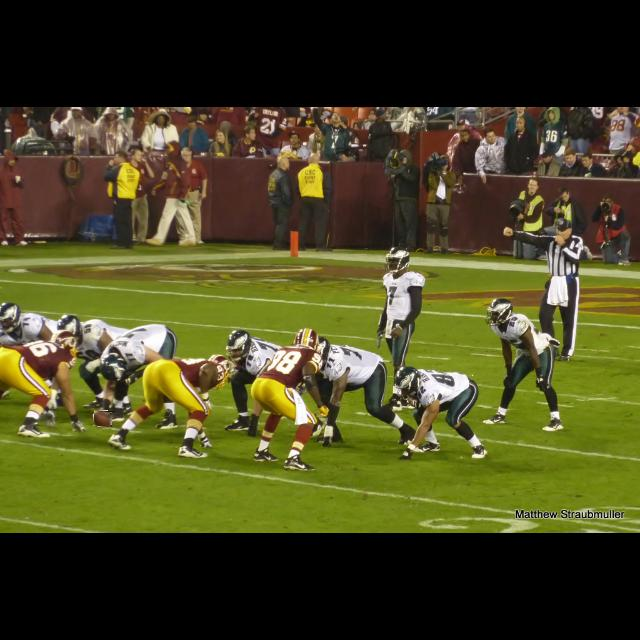Football: (94, 411, 112, 427)
